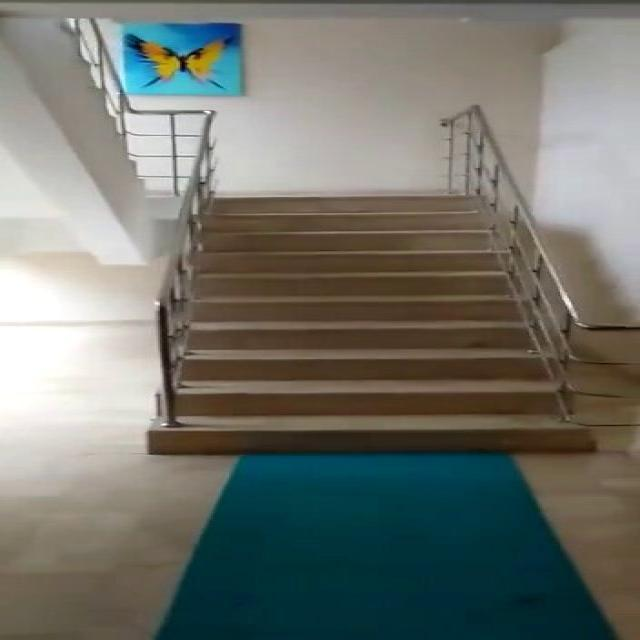stairs: (146, 191, 596, 454)
